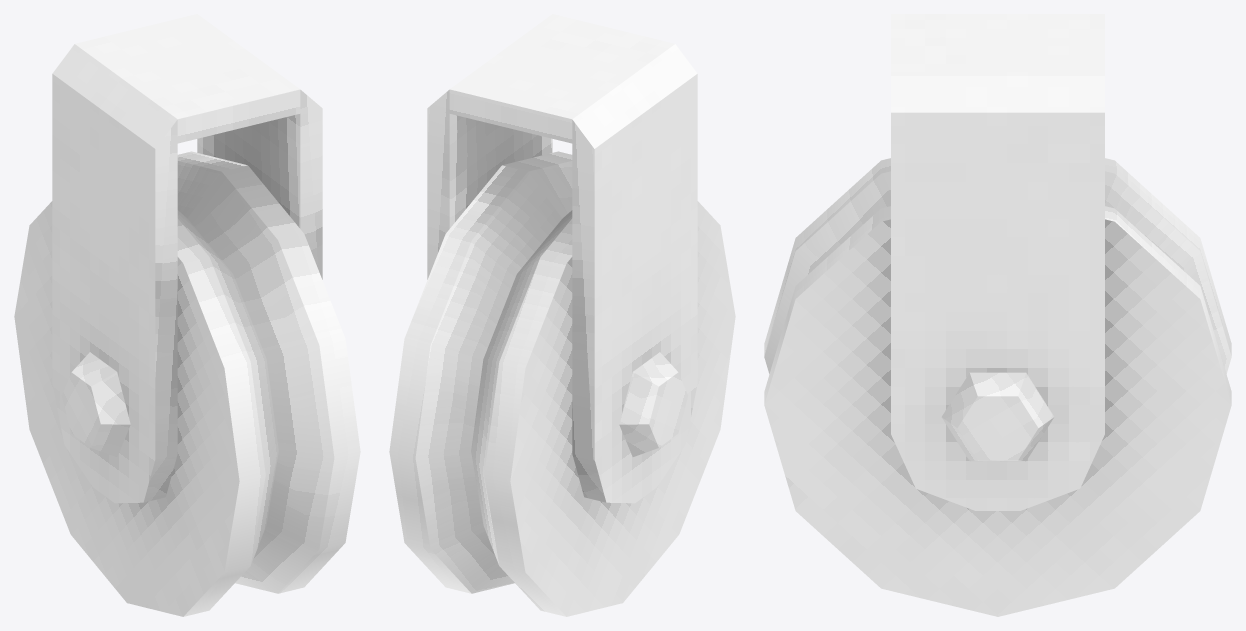
Rendered from Pulley.glb.
3 views of the same model, side by side, from view 1: azimuth 30°, elevation 25°; view 2: azimuth 150°, elevation 25°; view 3: azimuth 270°, elevation 25° (orthographic). The views are drawn at different scales.
Parts seen in each view (by area): view 1: Pulley; view 2: Pulley; view 3: Pulley.
Boxes of the visible parts, left/top/right/bottom form: Pulley: left=14, top=14, right=360, bottom=616; Pulley: left=389, top=14, right=735, bottom=616; Pulley: left=764, top=14, right=1231, bottom=616.
Size of the model in its own units: 0.0718 by 0.1686 by 0.132.
1 material, 1 textured.
